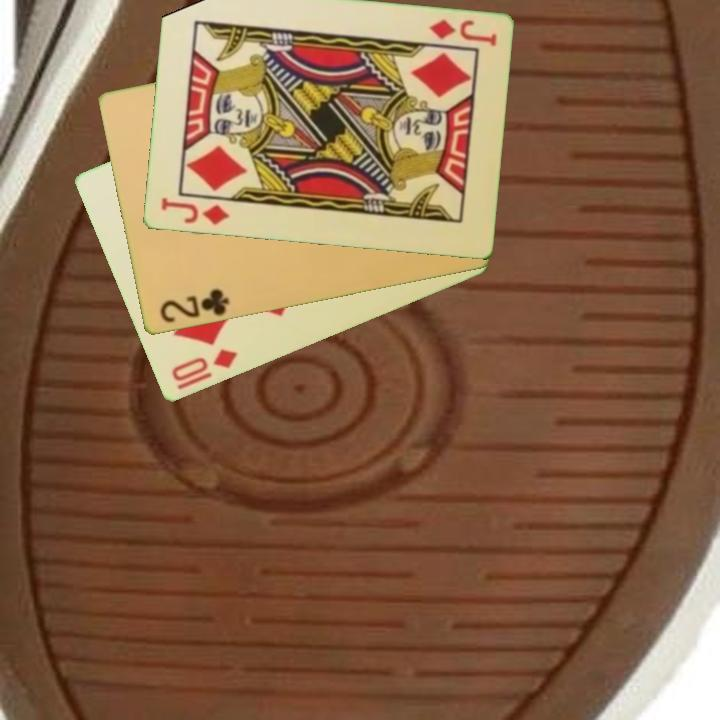10d: (167, 345, 240, 385)
2c: (156, 285, 232, 326)
Jd: (157, 195, 231, 229), (425, 16, 499, 50)
